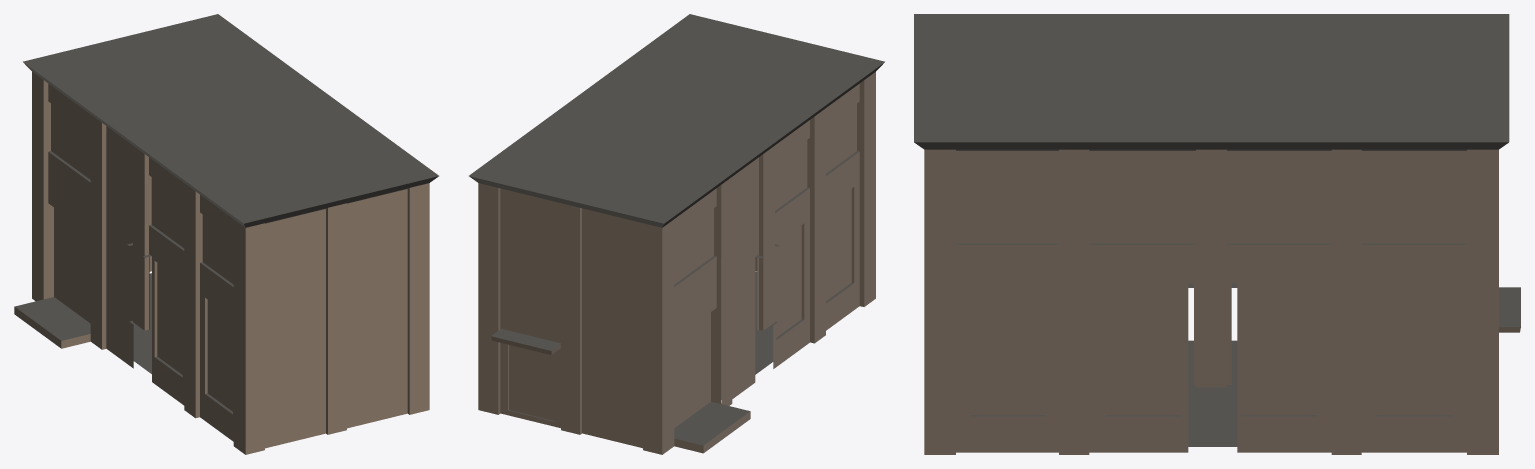
The model's file is factory-hall.far-facades-v2.lod2.glb.
3 views of the same model, side by side, from view 1: azimuth 30°, elevation 25°; view 2: azimuth 150°, elevation 25°; view 3: azimuth 270°, elevation 25° (orthographic). The views are drawn at different scales.
Visible parts, largest first — view 1: factory-hall; view 2: factory-hall; view 3: factory-hall.
Part boxes in pixels (x1=…): factory-hall: x1=14, y1=14, x2=438, y2=454; factory-hall: x1=469, y1=14, x2=884, y2=454; factory-hall: x1=914, y1=14, x2=1520, y2=454.
Size of the model in its own units: 14.59 by 14.96 by 26.
